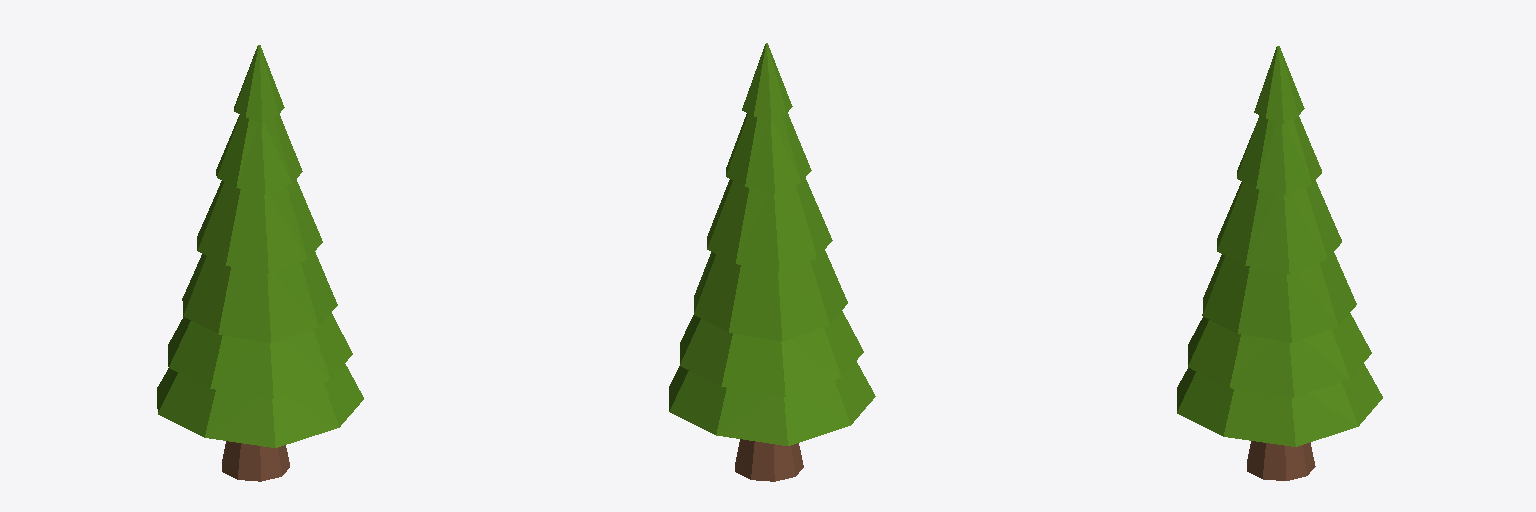
The picture shows the model from 3 angles: view 1: azimuth 30°, elevation 25°; view 2: azimuth 150°, elevation 25°; view 3: azimuth 270°, elevation 25°; orthographic projection.
Visible parts, largest first — view 1: Cylinder; view 2: Cylinder; view 3: Cylinder.
Boxes of the visible parts, x1,y1,x2,y2 form: Cylinder: [157, 45, 363, 481]; Cylinder: [669, 43, 875, 481]; Cylinder: [1177, 46, 1382, 480].
Bounding box in the file's own units: 2.31 × 5.12 × 2.28.
2 materials, 1 textured.